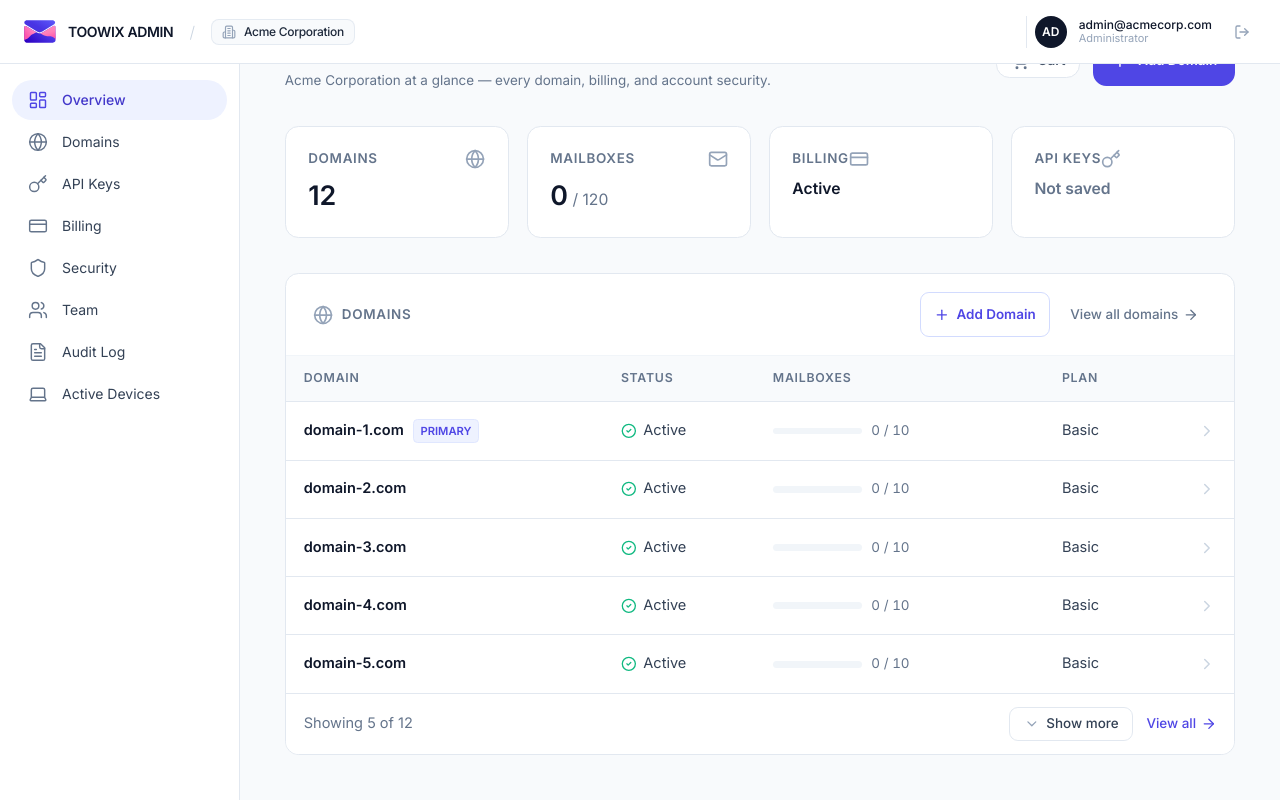
Test: TenantHomeView Component › caps domain table on Overview to 5 items and expands when Show more is clicked
(page scrolled)
Check: the heading "Overview" is shown, box x1=285 y1=33 x2=403 y2=65
Check: the text "domain-6.com" is not shown
Note: Click "Show more"
Click the button "Show more". click: x=1071, y=724
box: x1=1010 y1=708 x2=1133 y2=741
(page scrolled)
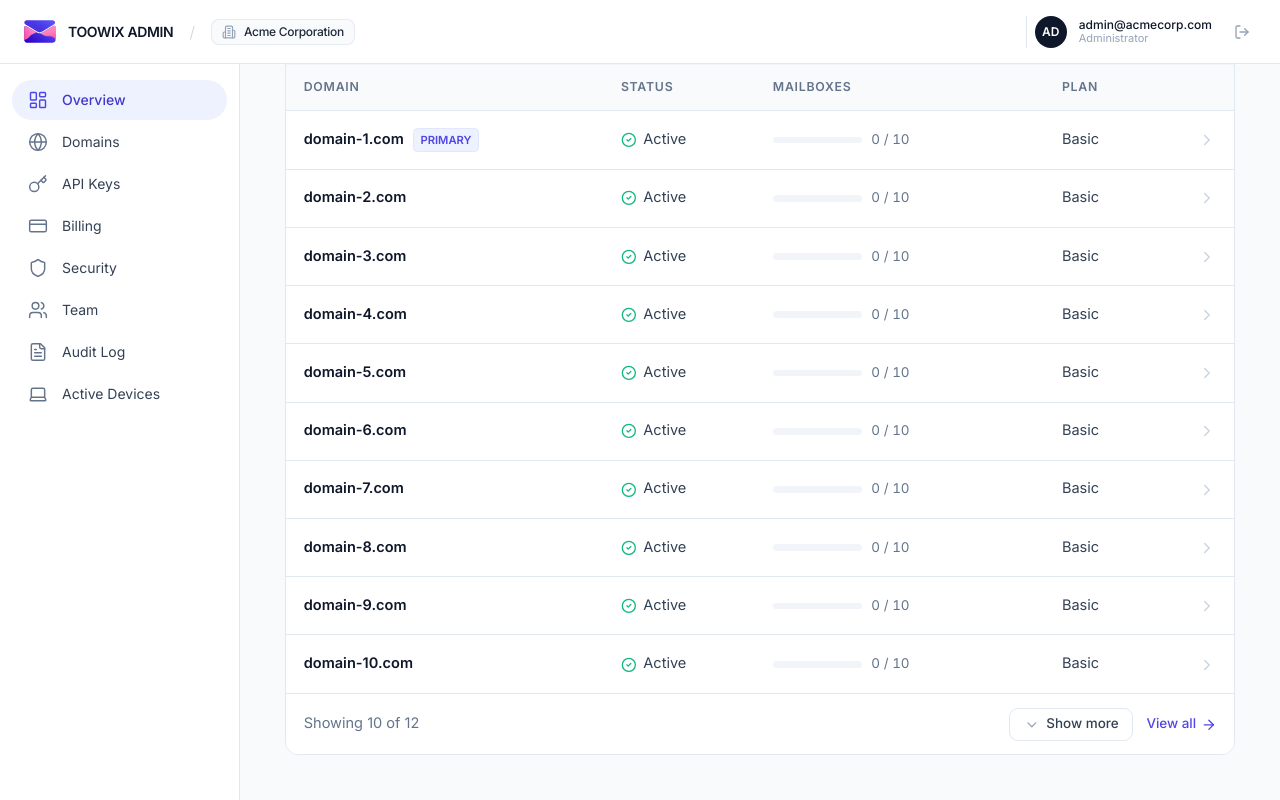
Check: the text "domain-11.com" is not shown
Check: the text "Showing 10 of 12" is shown, box x1=304 y1=713 x2=419 y2=735
Note: Click "Show more" again
Click the button "Show more". click: x=1071, y=724
box: x1=1010 y1=708 x2=1133 y2=741
(page scrolled)
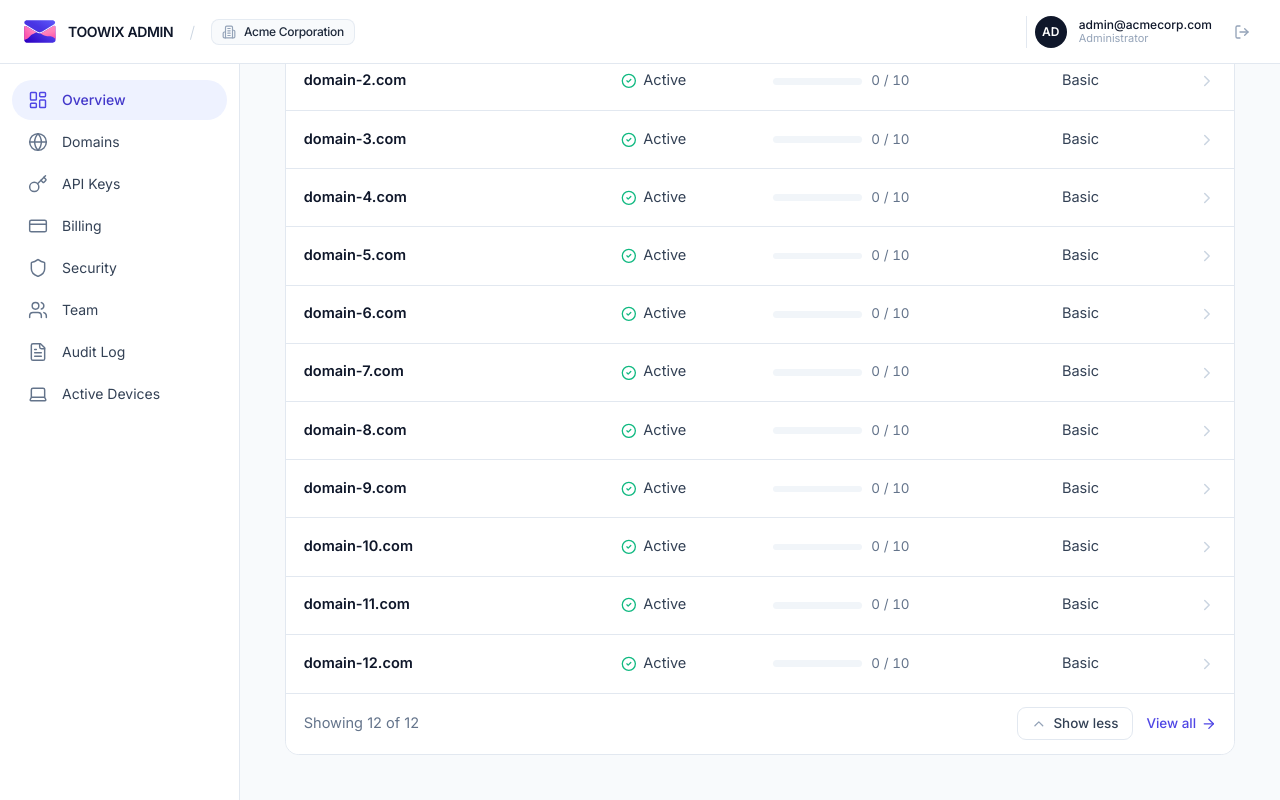
Check: the text "Showing 12 of 12" is shown, box x1=304 y1=713 x2=419 y2=735
Check: the button "Show less" is shown
Note: Click "Show less" collapses back to 5
Click the button "Show less". click: x=1075, y=724
box: x1=1017 y1=707 x2=1133 y2=740
(page scrolled)
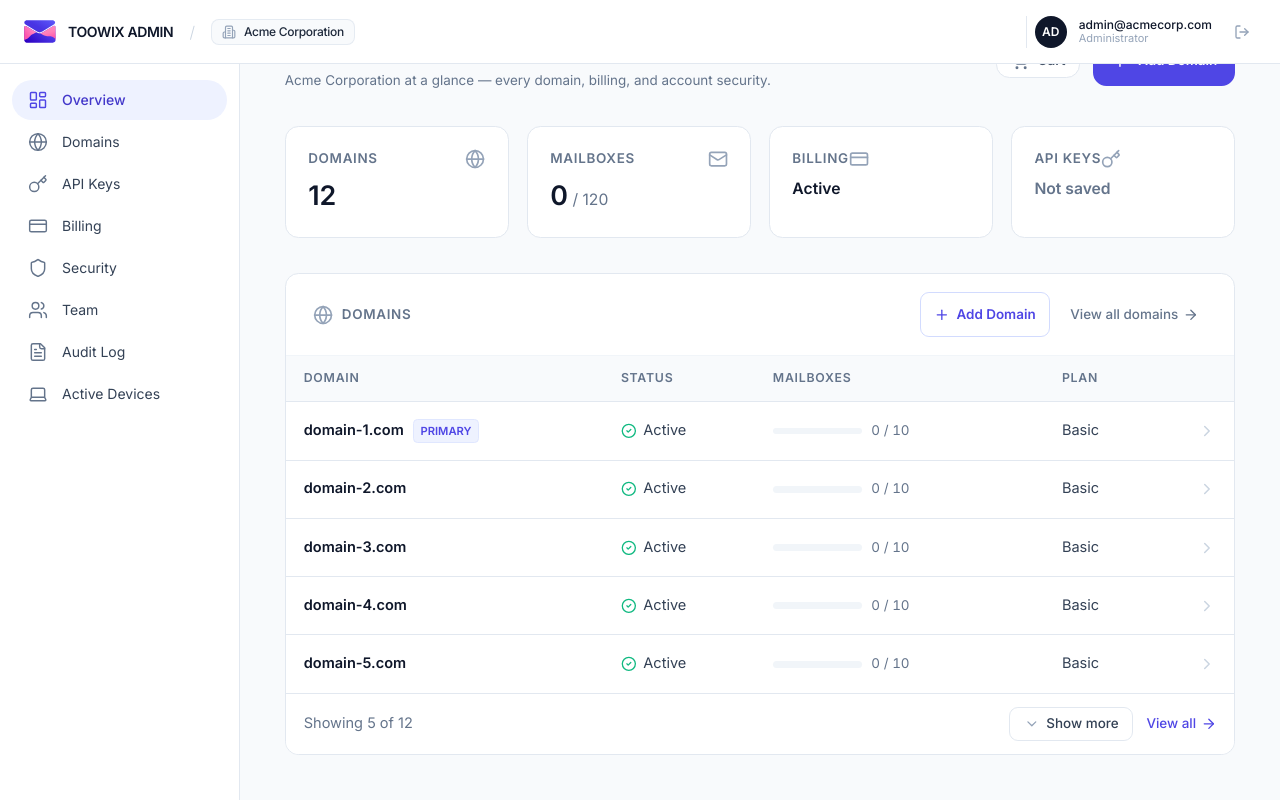
Check: the text "domain-6.com" is gone
Check: the text "Showing 5 of 12" is shown, box x1=304 y1=713 x2=413 y2=735
